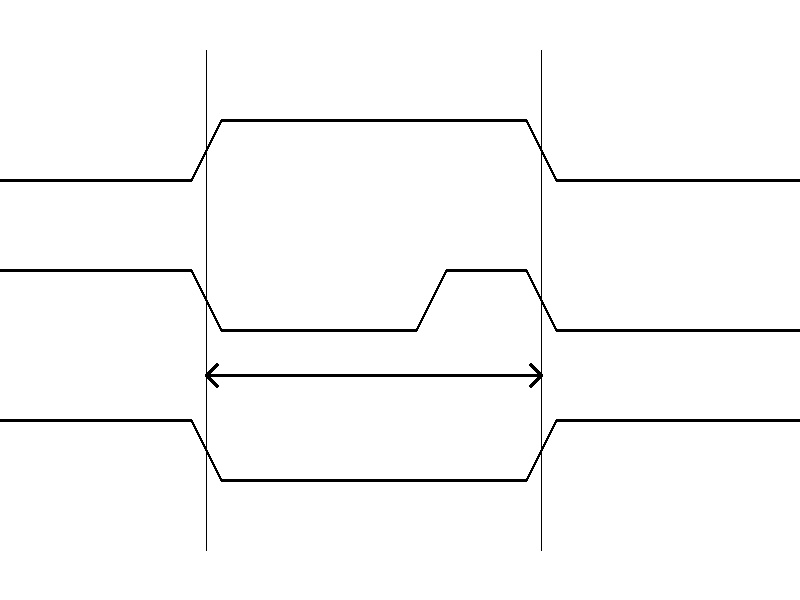double_arrow: (206, 360, 541, 390)
